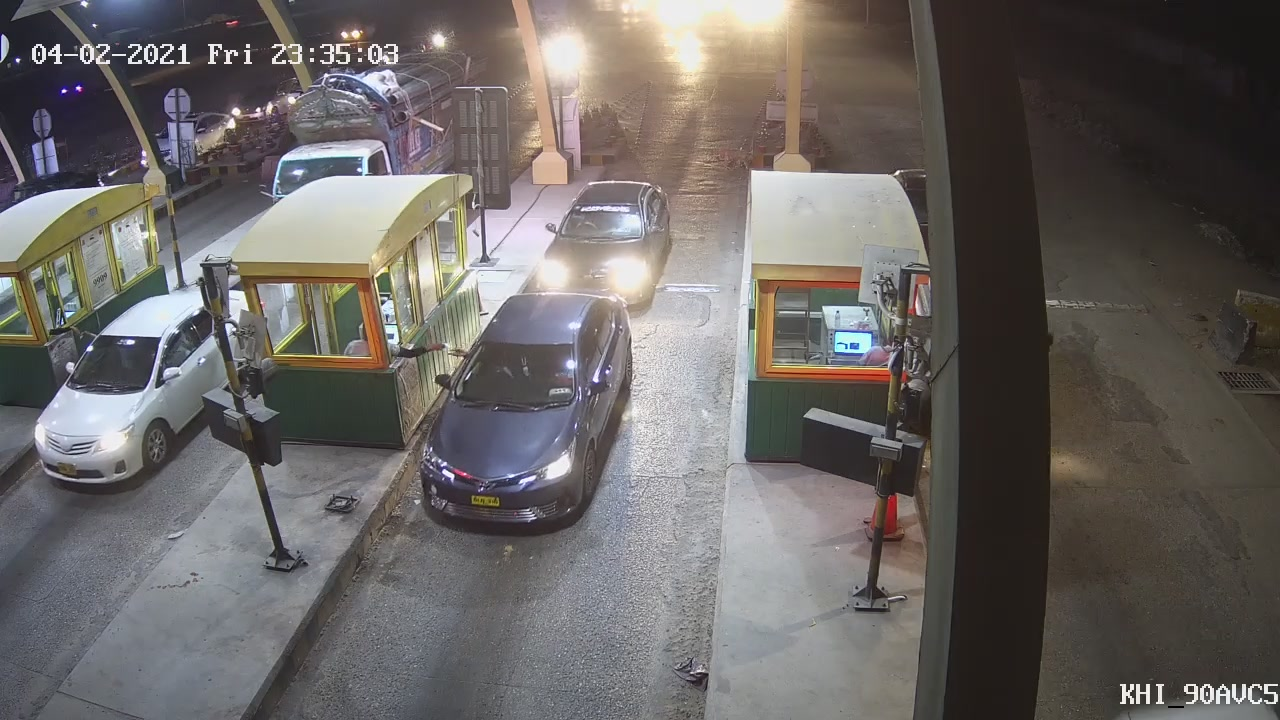F1: (415, 287, 640, 532)
